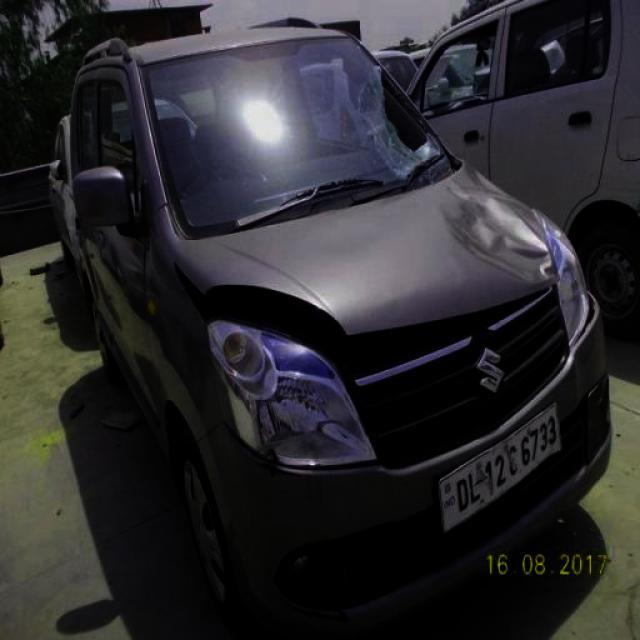car damage: (172, 260, 368, 387), (445, 164, 557, 284), (355, 61, 452, 192), (274, 583, 350, 628), (248, 444, 305, 487)
